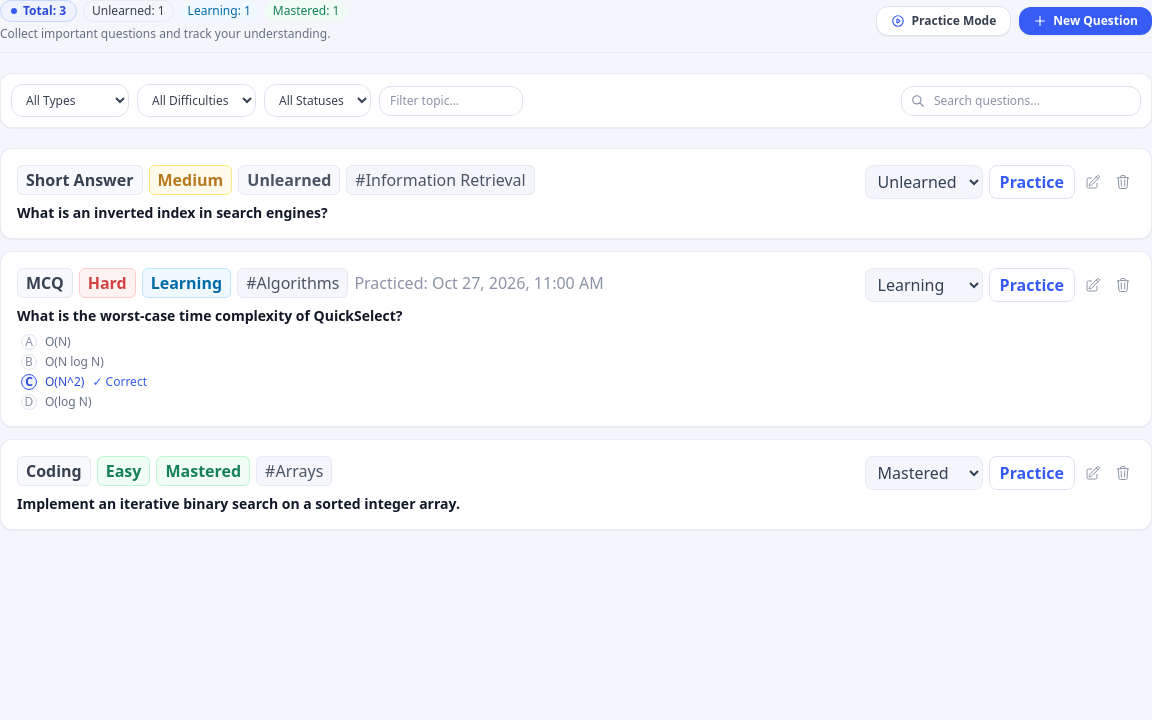
Test: Question Bank Feature Frontend Test Suite › opens delete confirmation modal and soft-deletes question
Check: the text "Implement an iterative binary search on a sorted integer array." is shown, box [17, 494, 460, 512]
Click the button named "Delete question \"Implement an iterative binary search on a sorted integer array.\"": click(1123, 472) [1111, 460, 1135, 484]
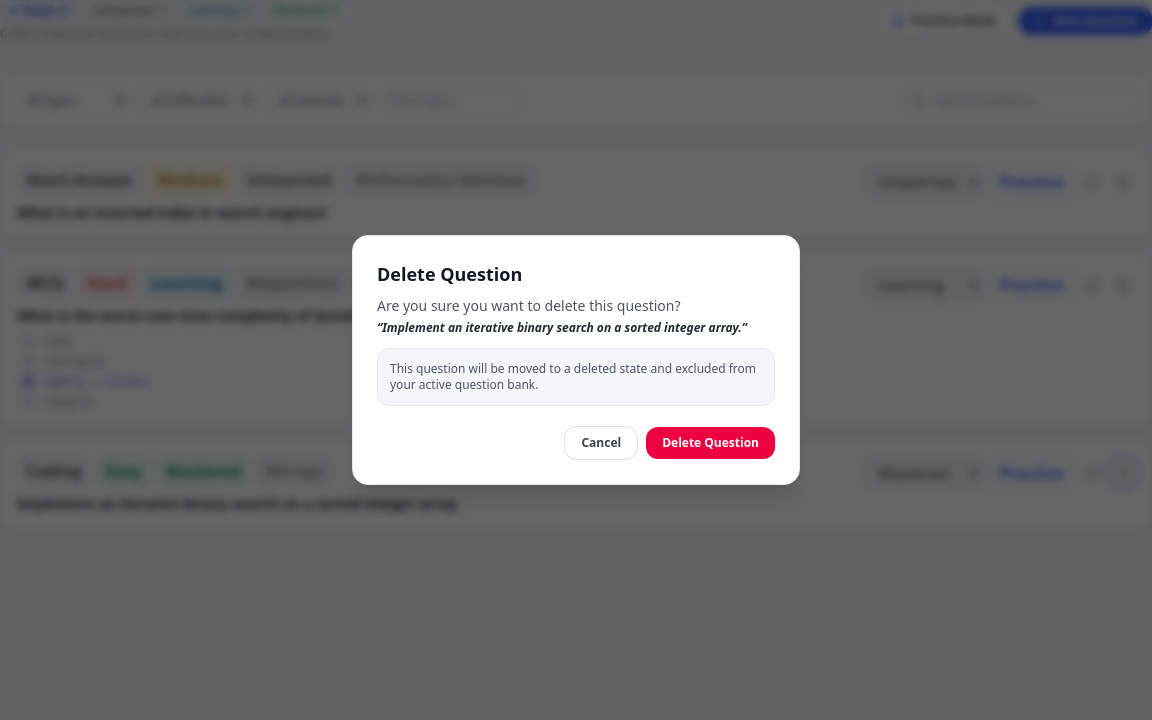
Check: the dialog "Delete Question" is shown
Check: the text "This question will be moved to a deleted state" is shown, box [390, 360, 756, 393]
Click the button "Delete Question": click(711, 443) [646, 427, 775, 459]
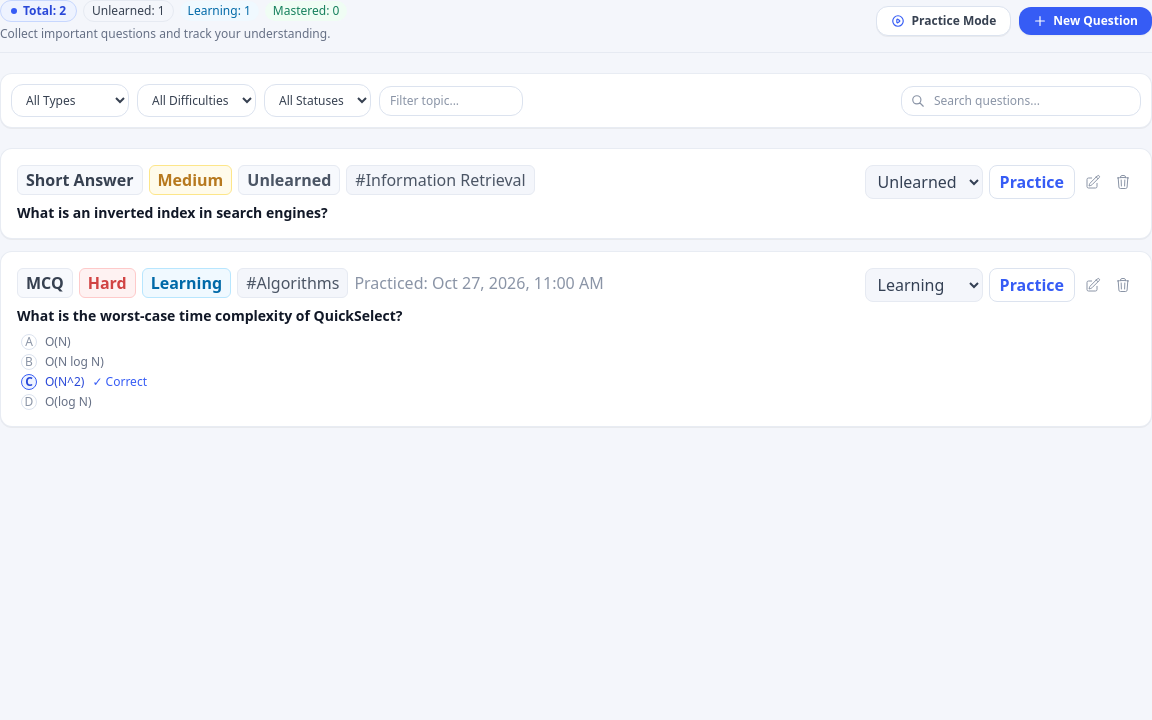
Check: the text "Implement an iterative binary search on a sorted integer array." is gone
